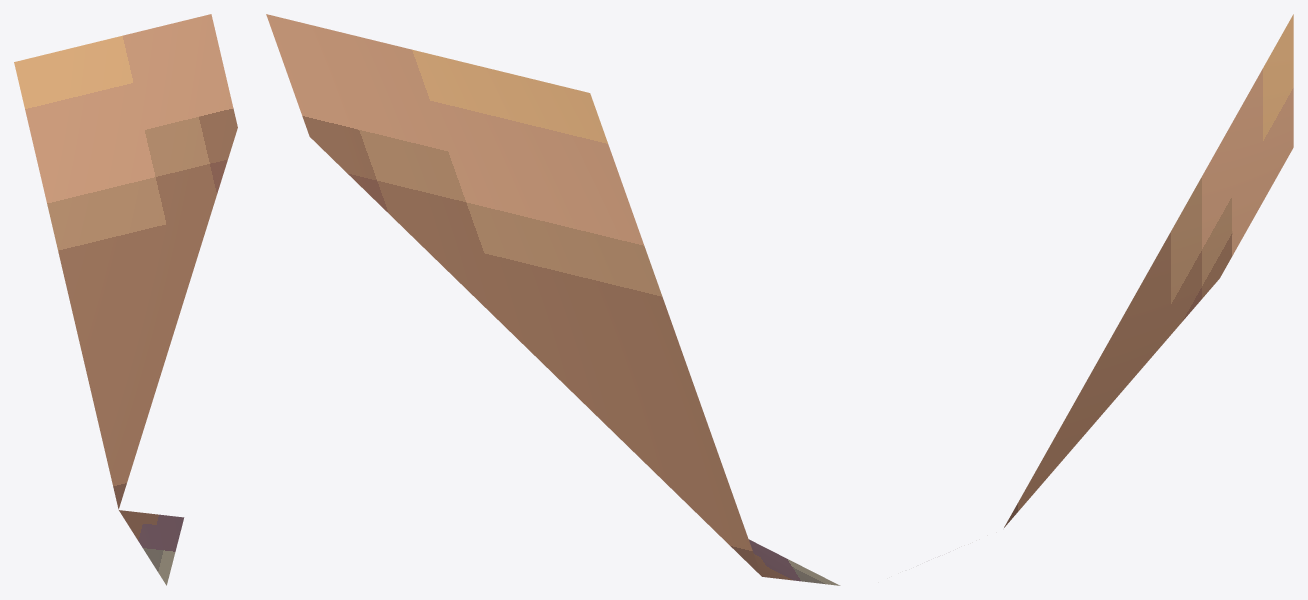
The picture shows the model from 3 angles, left to right: view 1: azimuth 30°, elevation 25°; view 2: azimuth 150°, elevation 25°; view 3: azimuth 270°, elevation 25°; orthographic projection. The views are drawn at different scales.
Size of the model in its own units: 0.5 by 0.9971 by 0.6699.
Materials: 1 (1 with a texture image).
